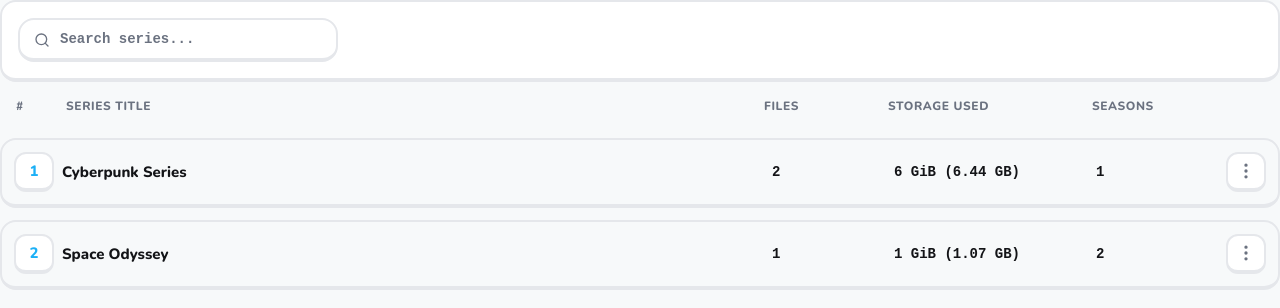
it: StorageSeriesTable rows › renders a trailing triple-dot action menu with an Inspect Storage action on each row
Expected: the button named "Actions for Space Odyssey" is shown, x1=1226 y1=234 x2=1266 y2=274
Step 1. Click the button named "Actions for Cyberpunk Series" → [1246, 172], box x1=1226 y1=152 x2=1266 y2=192
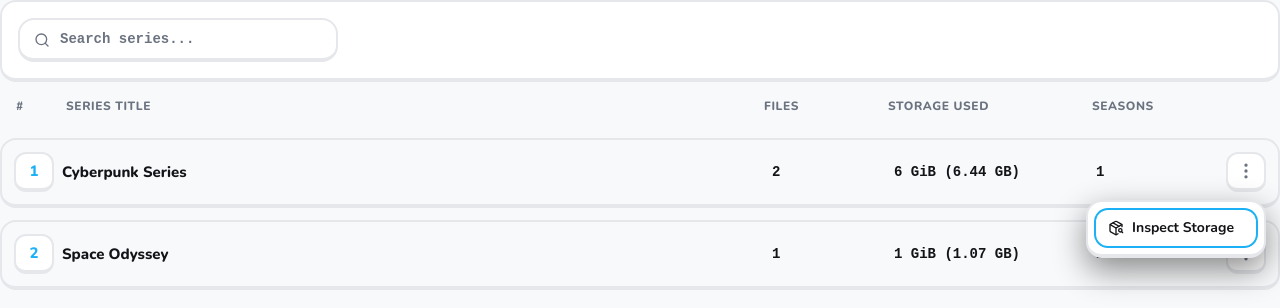
Now the menu item "Inspect Storage" is shown, box x1=1096 y1=210 x2=1256 y2=246
